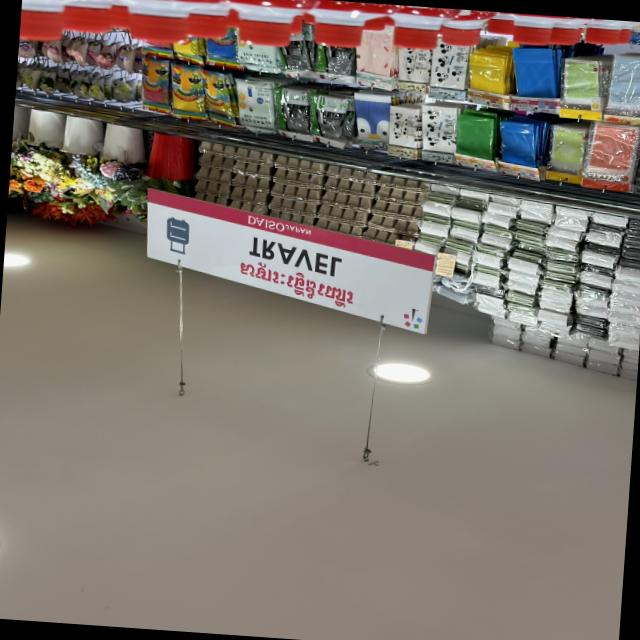Yolov11_80vkh: (224, 254, 358, 313)
